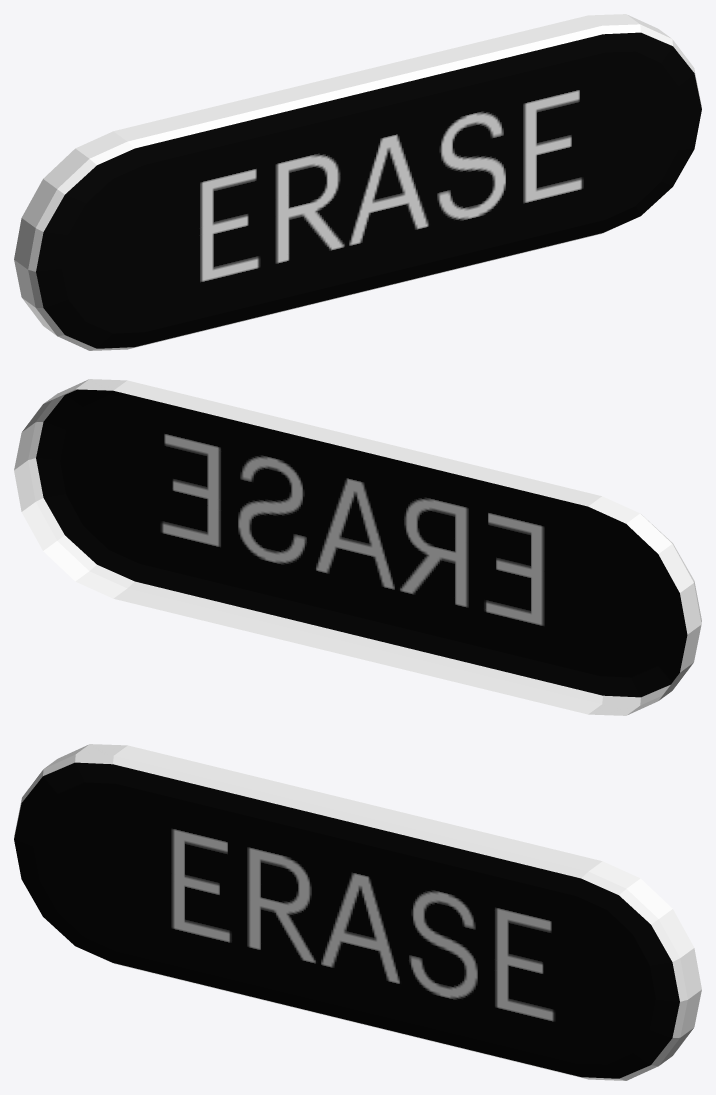
The model's file is button-erase.fbx.
3 renders of one model, top to bottom at view 1: azimuth 30°, elevation 25°; view 2: azimuth 150°, elevation 25°; view 3: azimuth 330°, elevation 25°, orthographic.
Parts seen in each view (by area): view 1: Button-Erase; view 2: Button-Erase; view 3: Button-Erase.
Boxes of the visible parts, x1,y1,x2,y2 form: Button-Erase: (14,14,701,350); Button-Erase: (14,379,701,715); Button-Erase: (14,744,701,1080).
Size of the model in its own units: 44.06 by 13 by 2.43.
Materials: 1 (1 with a texture image).
